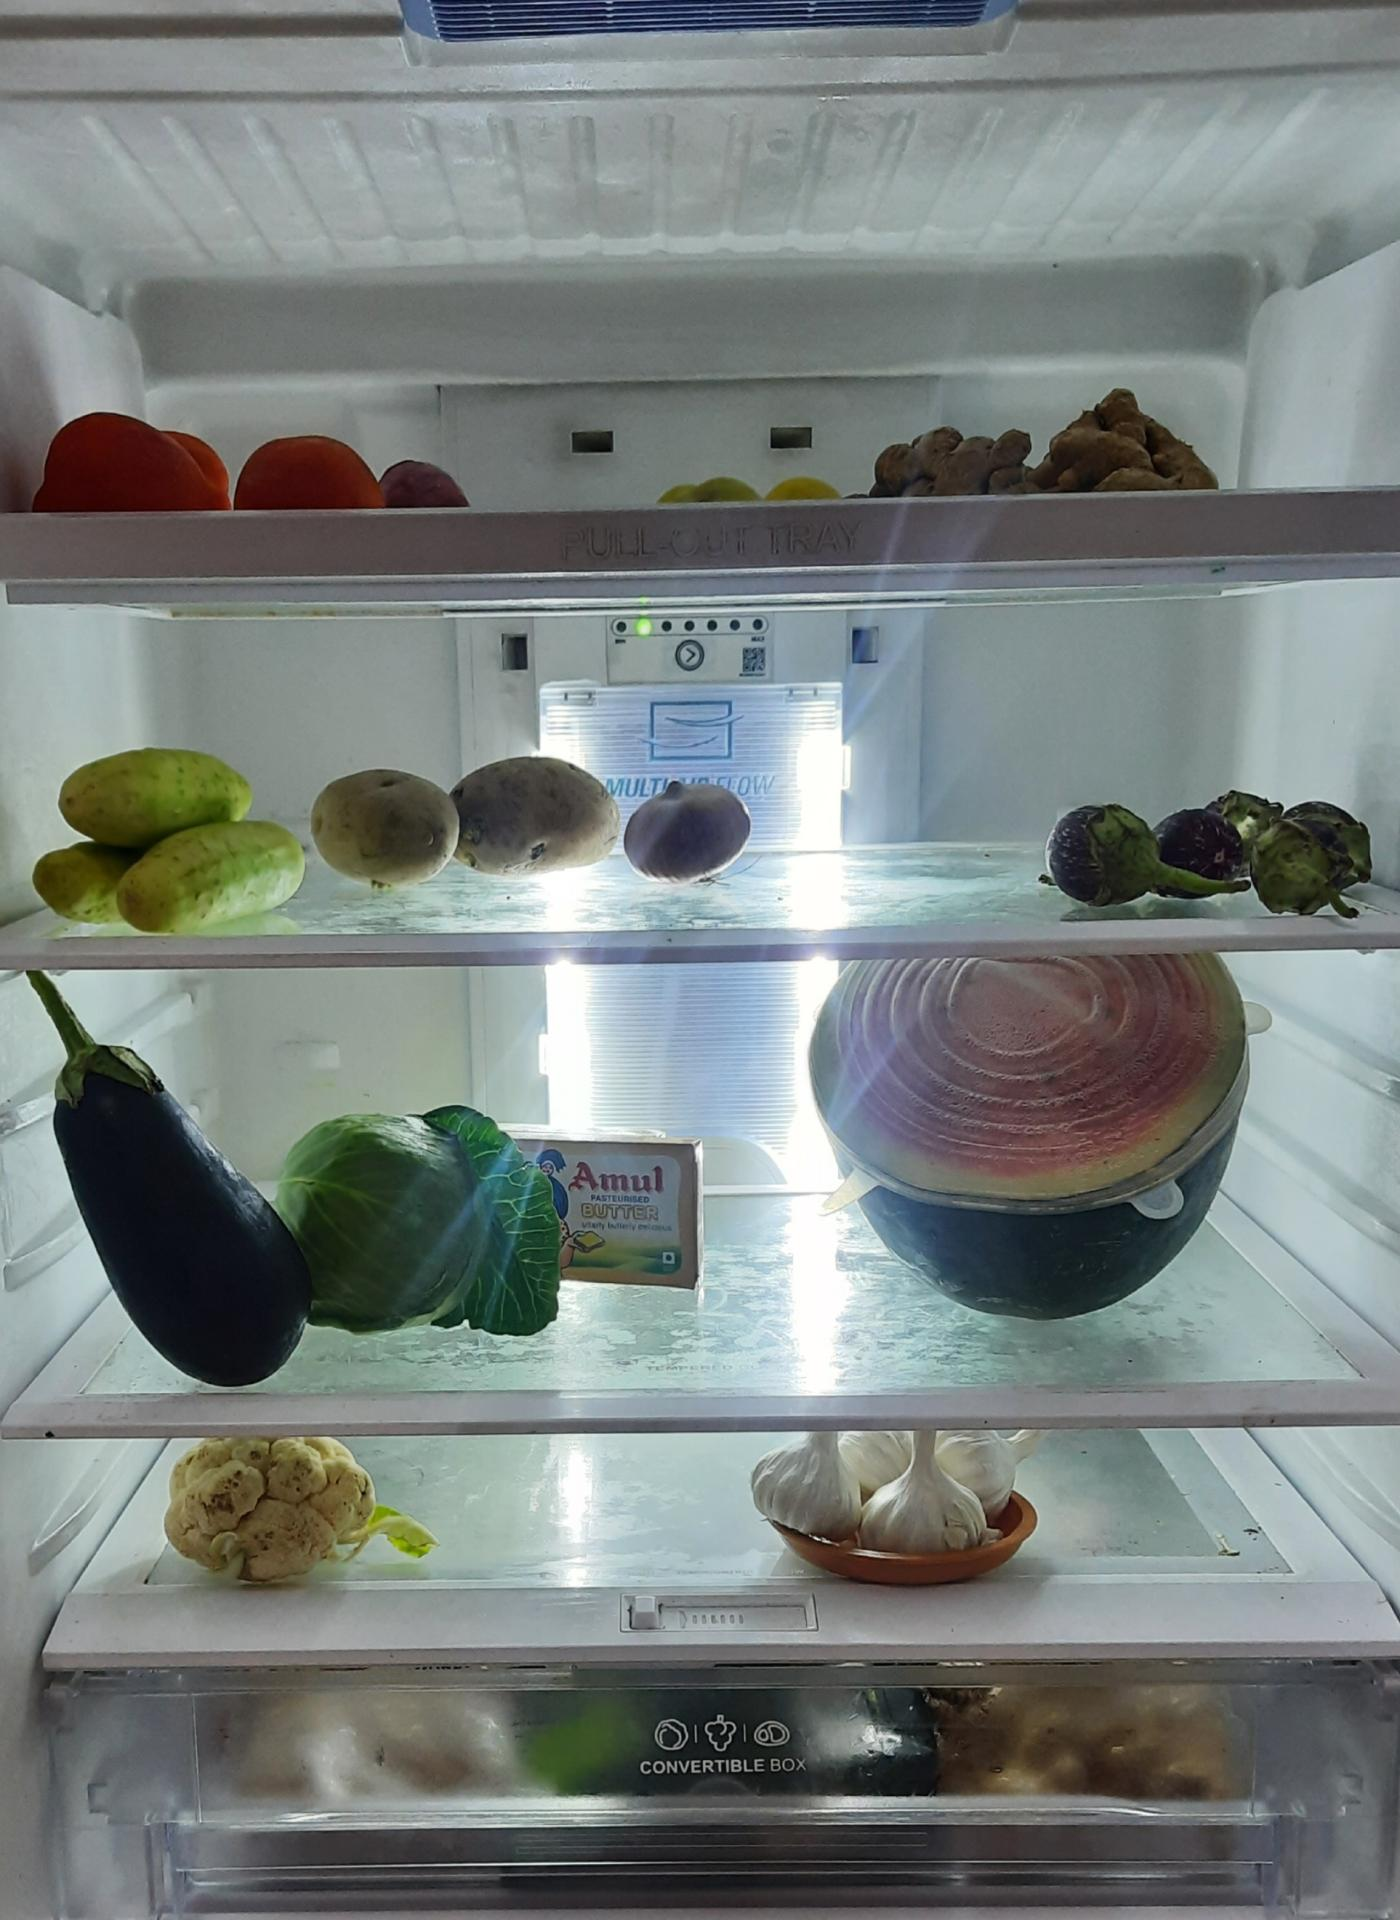brinjal: (13, 970, 307, 1403), (1047, 784, 1387, 906)
butter: (499, 1136, 698, 1306)
cabbage: (279, 1105, 570, 1342)
cauliflower: (161, 1434, 425, 1589)
cucumber: (37, 744, 307, 941)
garlic: (747, 1427, 1038, 1576)
ginger: (851, 379, 1236, 495)
lemon: (650, 471, 838, 504)
potato: (309, 748, 623, 900), (619, 778, 757, 893)
tomato: (27, 405, 464, 508)
watermelon: (811, 954, 1257, 1318)
